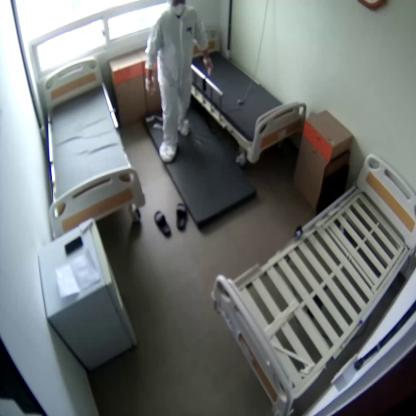Person: (145, 1, 214, 161)
